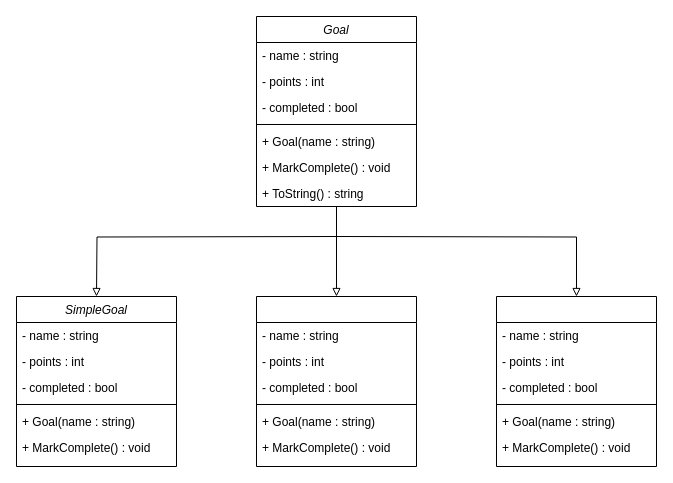
Some shapes in this 673 by 483 pixel diagram are drawn without their labels. Here are the shapes that lost their labels. From the top down, the box of each, then its label:
(256, 296, 416, 466): EternalGoal
(496, 296, 656, 466): ChecklistGoal
